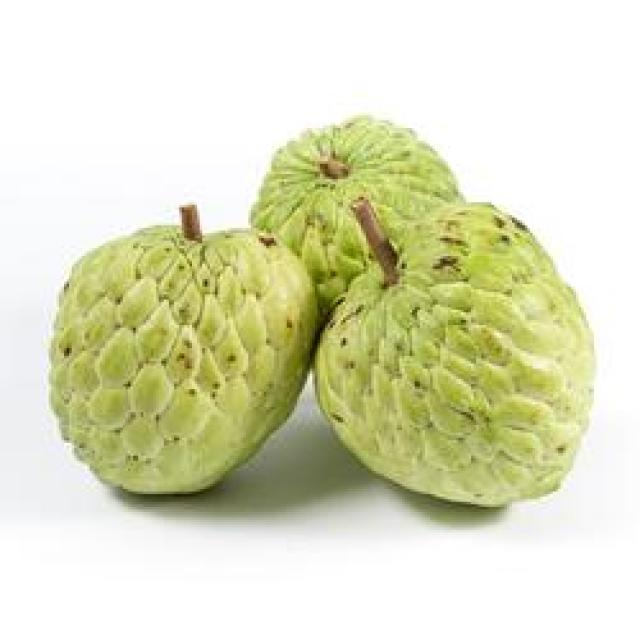apple: (315, 192, 607, 512), (44, 197, 318, 507), (248, 113, 471, 289)
